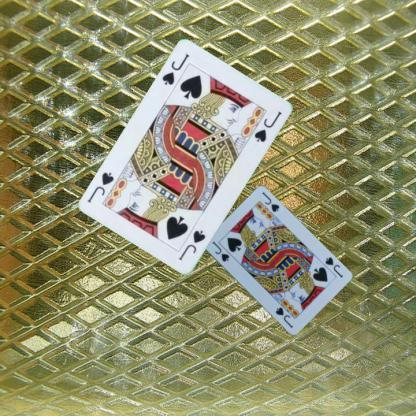Js: (175, 228, 207, 262), (160, 51, 190, 86), (209, 238, 231, 263), (322, 254, 344, 279)
